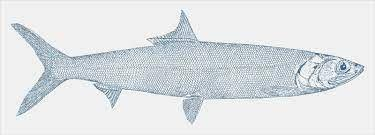Tenpounder: (9, 5, 367, 125)
